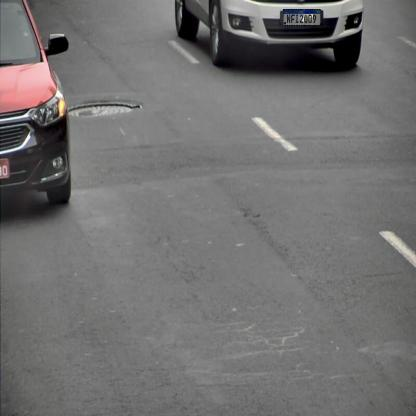PlacaM: (283, 9, 321, 26)
